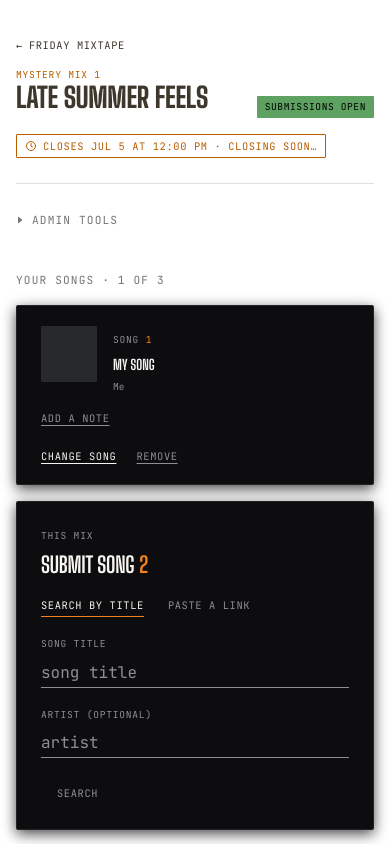
Test case: MixDetailRoute › open_submission, partial submission: leave-warning nudges toward the deadline when one is set — MYS-250
This screenshot has width=390, height=844.
Expected: the heading "submit song 2" is shown, [41,554,148,576]
Step 1. Click the button "← Friday Mixtape" → (70, 45), box [16,38,125,53]
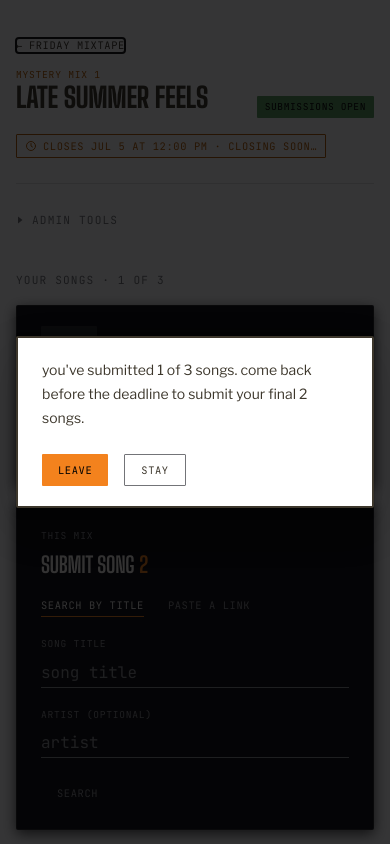
Now the text "you've submitted 1 of 3 songs. come back before the deadline to submit your final 2 songs." is shown, box [42,361,312,426]
